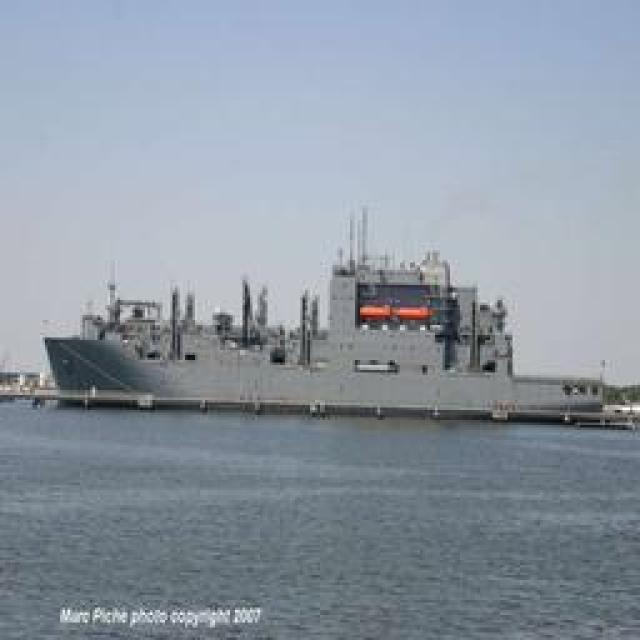CIV_Ship: (30, 224, 620, 418)
